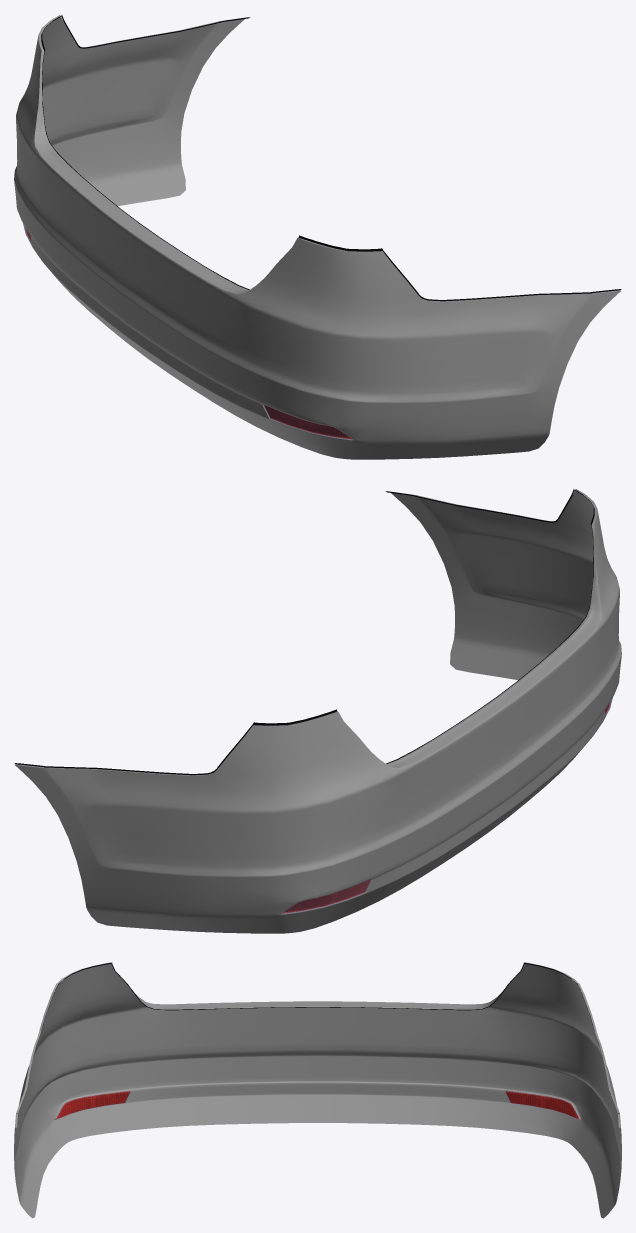
3 renders of one model, top to bottom at view 1: azimuth 30°, elevation 25°; view 2: azimuth 150°, elevation 25°; view 3: azimuth 270°, elevation 25°, orthographic. The views are drawn at different scales.
Parts seen in each view (by area): view 1: X6166_561G_C_X6166_561G_C_1_DaS, X6166_561G_C_X6166_561G_C_1_DaS_E, X6166_561G_C_X6166_561G_C_5_D, X6166_561G_C_X6166_561G_C_7_DTaSI, X6166_561G_C_X6166_561G_C_3_N; view 2: X6166_561G_C_X6166_561G_C_1_DaS, X6166_561G_C_X6166_561G_C_1_DaS_E, X6166_561G_C_X6166_561G_C_5_D, X6166_561G_C_X6166_561G_C_8_DTaSI, X6166_561G_C_2_N_X6166_561G_C; view 3: X6166_561G_C_X6166_561G_C_1_DaS, X6166_561G_C_X6166_561G_C_1_DaS_E, X6166_561G_C_2_N_X6166_561G_C, X6166_561G_C_X6166_561G_C_3_N, X6166_561G_C_X6166_561G_C_5_D.
Part boxes in pixels (box(x1,y1,x2,y2)): X6166_561G_C_X6166_561G_C_1_DaS: box(14, 17, 620, 459); X6166_561G_C_X6166_561G_C_1_DaS_E: box(23, 15, 620, 440); X6166_561G_C_X6166_561G_C_5_D: box(41, 15, 621, 301); X6166_561G_C_X6166_561G_C_7_DTaSI: box(263, 404, 353, 440); X6166_561G_C_X6166_561G_C_3_N: box(264, 405, 352, 439); X6166_561G_C_X6166_561G_C_1_DaS: box(15, 491, 621, 933); X6166_561G_C_X6166_561G_C_1_DaS_E: box(15, 489, 612, 914); X6166_561G_C_X6166_561G_C_5_D: box(14, 489, 594, 775); X6166_561G_C_X6166_561G_C_8_DTaSI: box(282, 878, 372, 914); X6166_561G_C_2_N_X6166_561G_C: box(283, 879, 371, 913); X6166_561G_C_X6166_561G_C_1_DaS: box(14, 964, 621, 1218); X6166_561G_C_X6166_561G_C_1_DaS_E: box(15, 962, 620, 1127); X6166_561G_C_2_N_X6166_561G_C: box(505, 1091, 579, 1119); X6166_561G_C_X6166_561G_C_3_N: box(56, 1091, 129, 1119); X6166_561G_C_X6166_561G_C_5_D: box(22, 962, 613, 1101).
Bounding box in the file's own units: 97.28 × 66.71 × 201.
